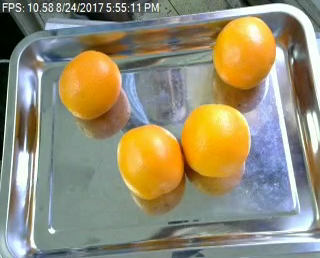Orange: (181, 103, 251, 177), (118, 122, 184, 200), (58, 50, 132, 117), (211, 15, 276, 90)
